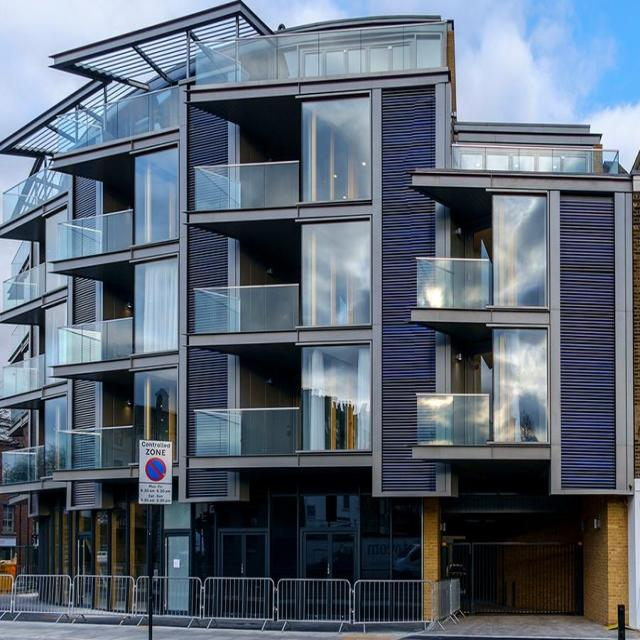Railing: (0, 572, 459, 627), (196, 21, 445, 87), (57, 84, 181, 153), (448, 143, 618, 174), (193, 287, 299, 332), (196, 409, 298, 454), (194, 164, 298, 208), (414, 257, 494, 308), (417, 393, 495, 445), (58, 207, 134, 259), (0, 166, 69, 223), (57, 316, 133, 364), (58, 424, 133, 471), (0, 350, 56, 399), (0, 263, 44, 312), (2, 447, 45, 485)
door: (298, 528, 361, 582), (218, 526, 271, 577), (161, 528, 192, 614)
wall: (0, 0, 639, 631)
windows: (191, 477, 424, 583), (302, 341, 374, 450), (302, 101, 372, 201), (301, 225, 370, 324), (493, 329, 547, 442), (494, 194, 547, 306), (132, 145, 179, 245), (132, 256, 179, 352), (132, 369, 177, 465), (46, 207, 70, 291), (45, 394, 67, 475), (45, 299, 66, 349)
